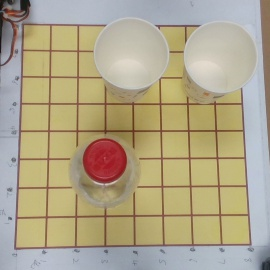bottle: (59, 132, 142, 210)
cup: (170, 19, 258, 123), (89, 16, 169, 111)
